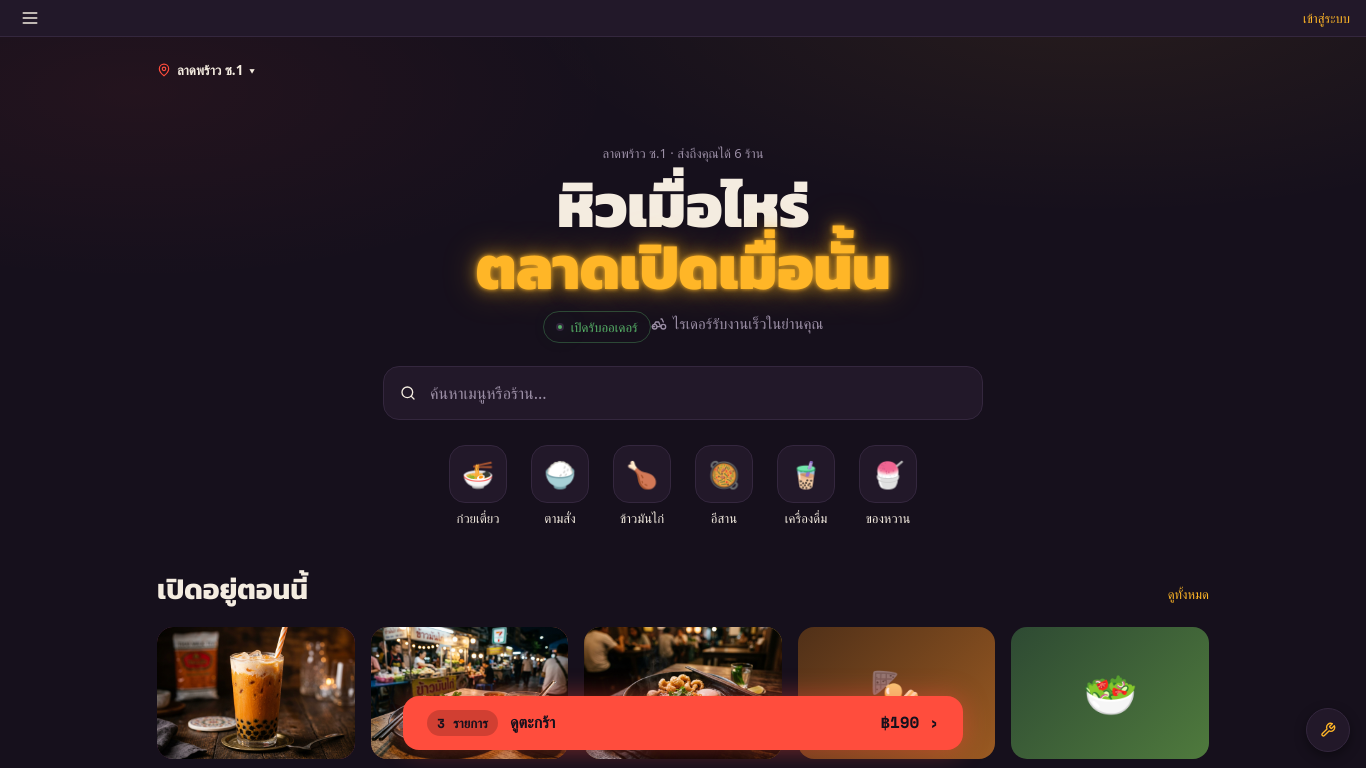
Test: Home — ค้นหา / หมวดหมู่ / Service Zone › เปิด/ปิด drawer ด้วยปุ่ม hamburger
Click the button named "เปิดเมนู".
click(30, 18)  # box [16,8,44,28]
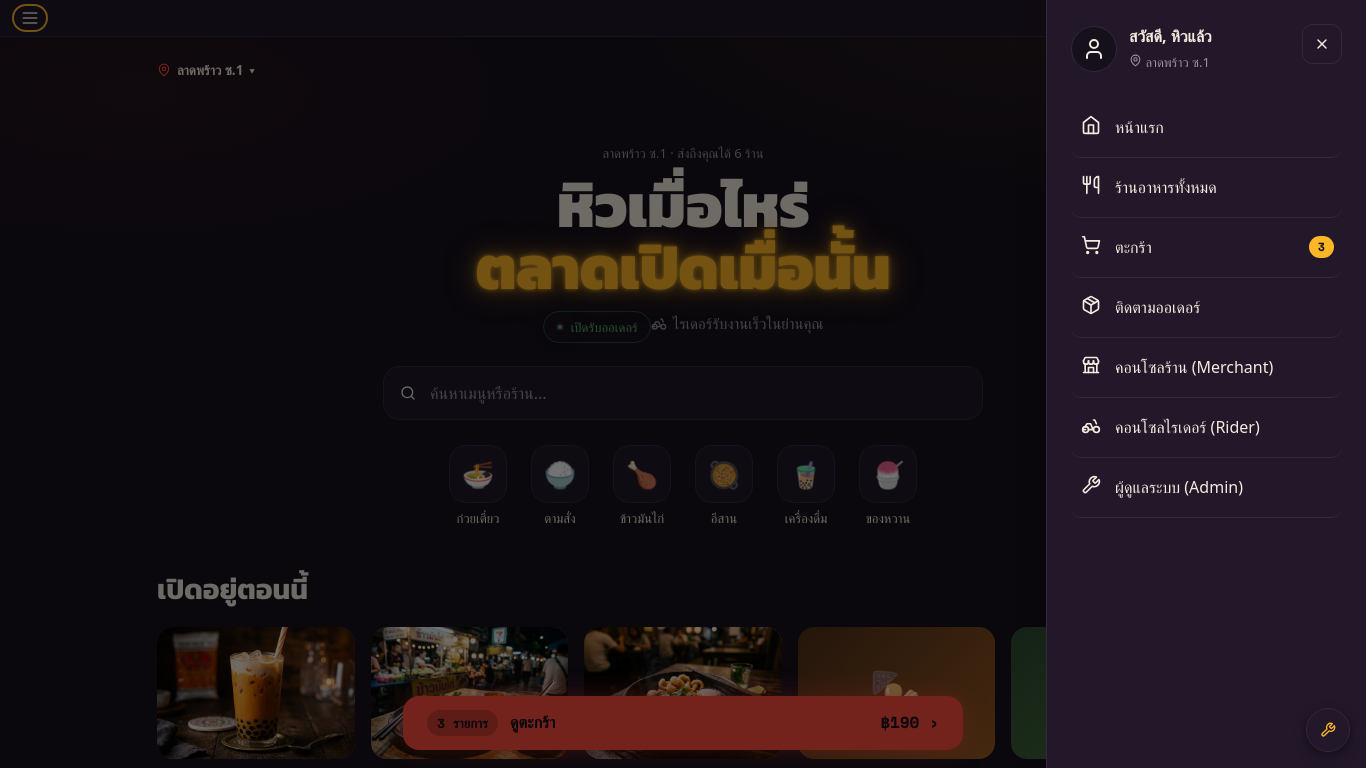
Expected: the dialog named "เมนูหลัก" is shown, [1046,0,1365,767]
Click the button named "ปิดเมนู".
click(1322, 44)  # box [1302,24,1342,64]
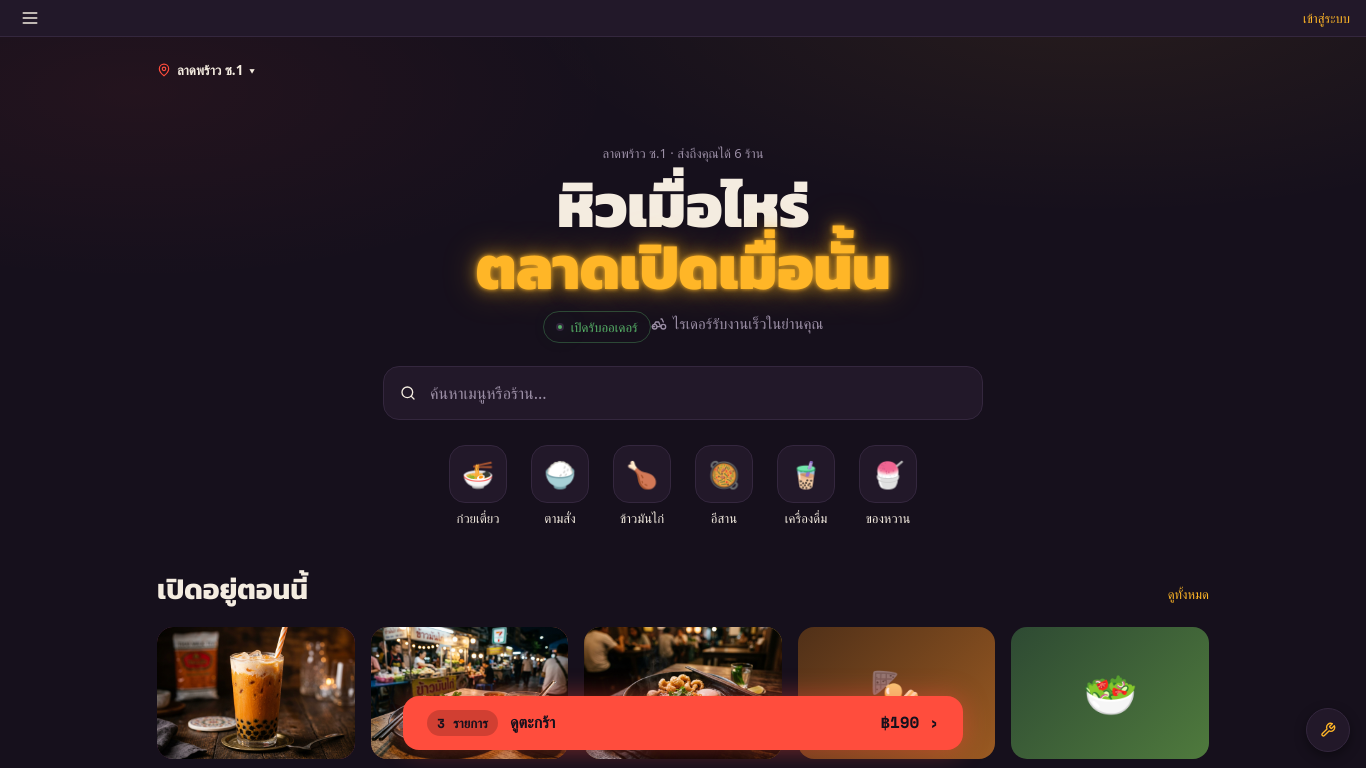
Expected: the dialog "เมนูหลัก" is gone
